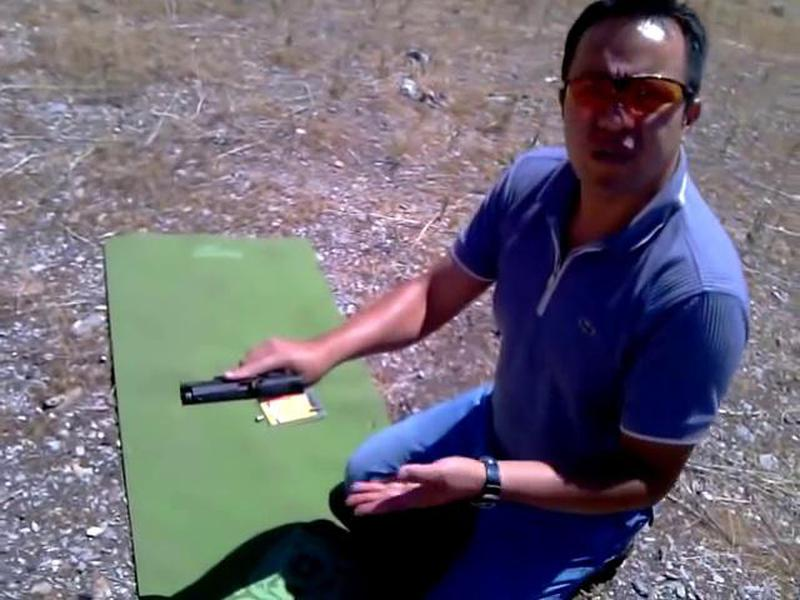Pistola: (133, 341, 334, 433)
